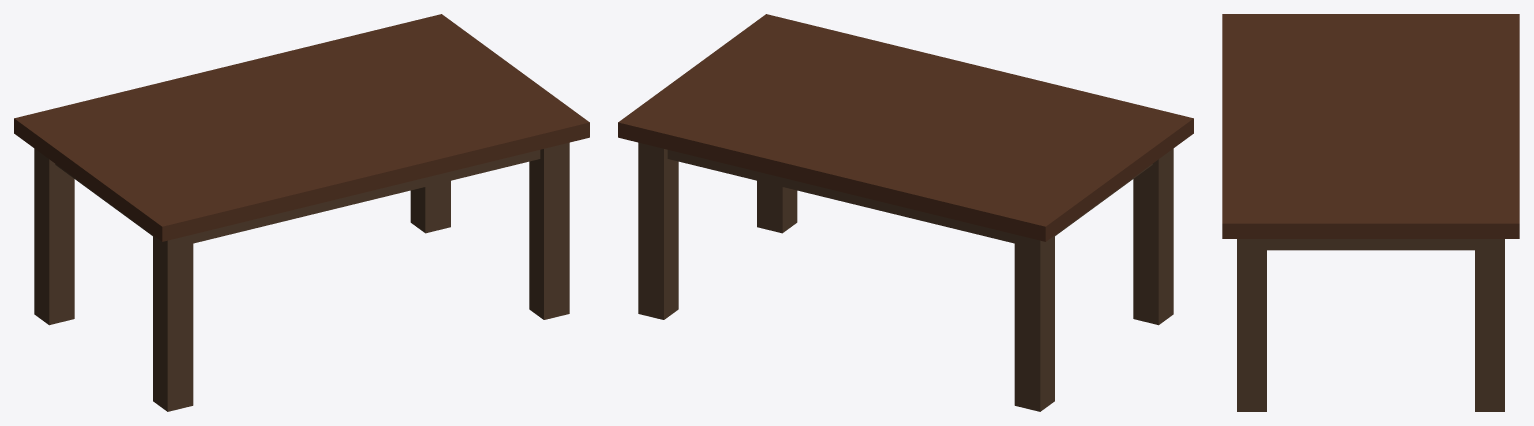
File: Table_1B.fbx
3 renders of one model, left to right at view 1: azimuth 30°, elevation 25°; view 2: azimuth 150°, elevation 25°; view 3: azimuth 270°, elevation 25°, orthographic.
Visible parts, largest first — view 1: polySurface2095; view 2: polySurface2095; view 3: polySurface2095.
Part boxes in pixels (x1,y1,x2,y2): polySurface2095: (14, 14, 589, 411); polySurface2095: (618, 14, 1193, 411); polySurface2095: (1222, 14, 1519, 411).
Size of the model in its own units: 2.5 by 1.08 by 1.5.
1 material, 1 textured.
